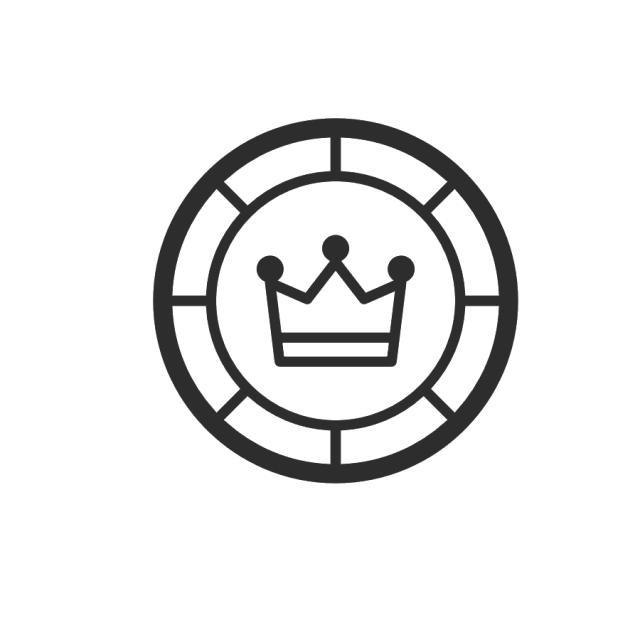coin: (147, 112, 527, 496)
